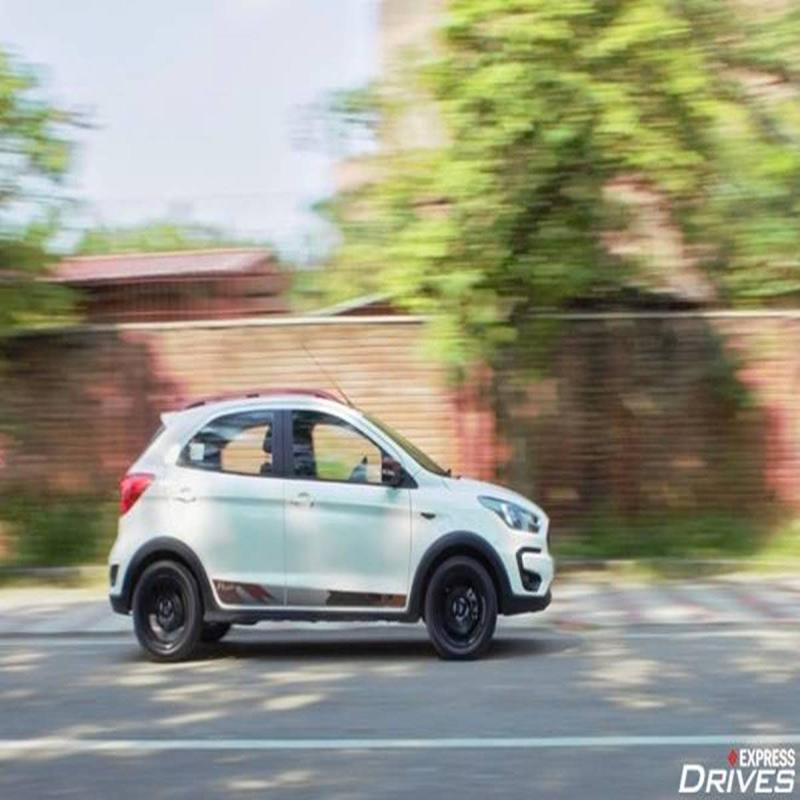car: (99, 378, 555, 650)
